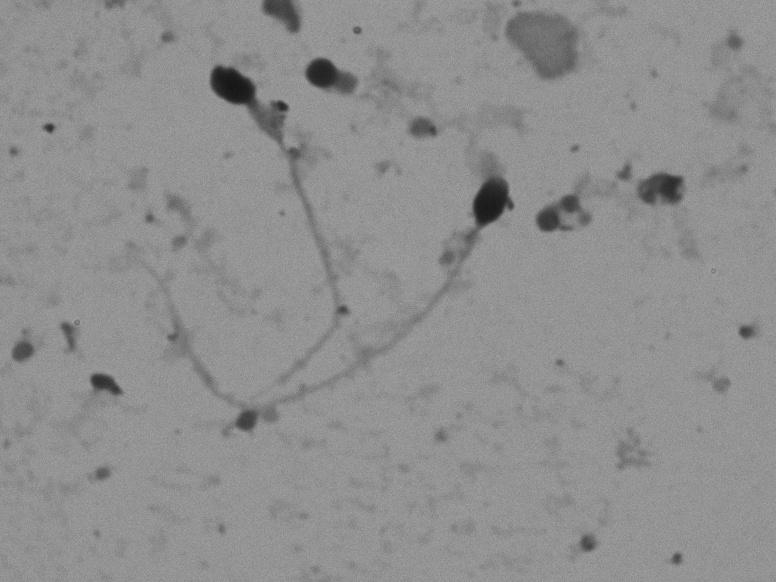Abnormal: (198, 59, 362, 398)
Normal: (108, 157, 522, 423)
